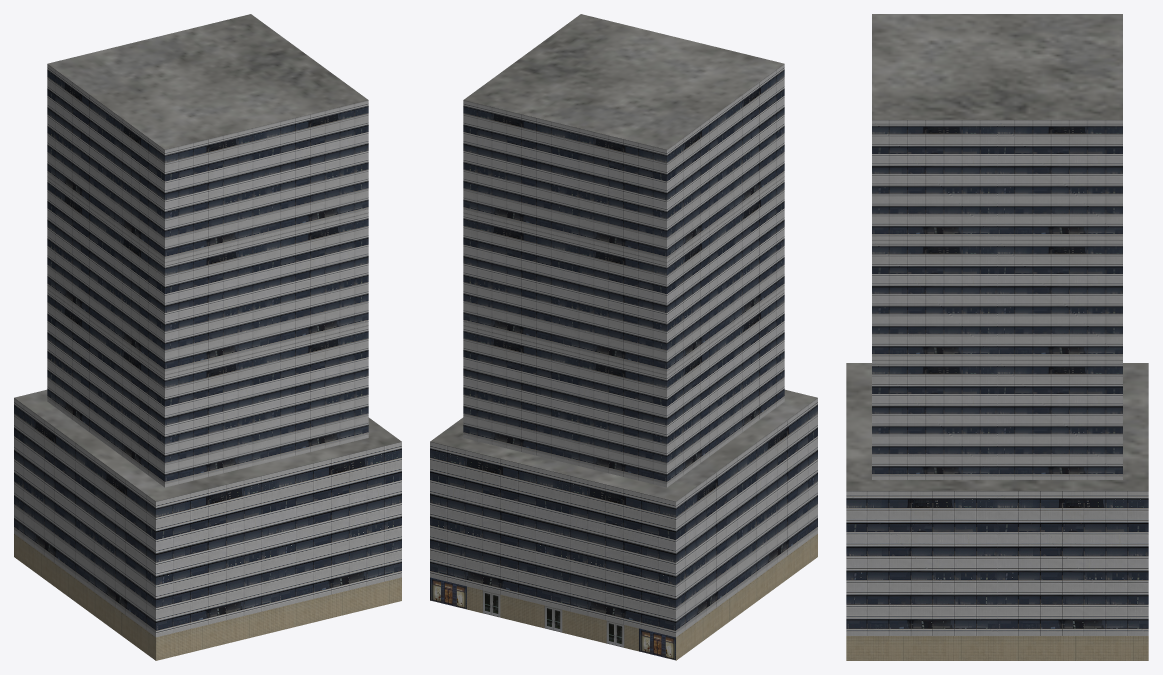
The model's file is Building03.fbx.
3 views of the same model, side by side, from view 1: azimuth 30°, elevation 25°; view 2: azimuth 150°, elevation 25°; view 3: azimuth 270°, elevation 25° (orthographic). The views are drawn at different scales.
Parts seen in each view (by area): view 1: Building03; view 2: Building03; view 3: Building03.
Part boxes in pixels (box(x1,y1,x2,y2)): Building03: box(14, 14, 401, 660); Building03: box(430, 14, 817, 660); Building03: box(846, 14, 1148, 660).
Size of the model in its own units: 31.51 by 60.89 by 31.51.
